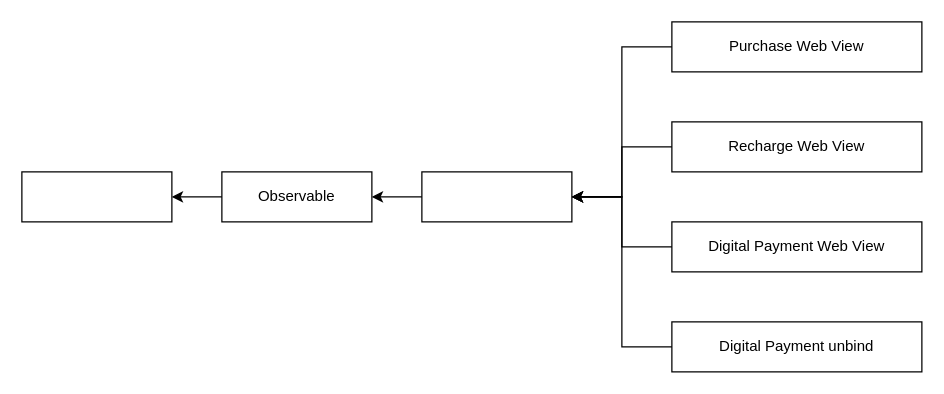
Image size: 944x394. Some labels were removed from this diagram. Here are the shapes that lost their labels. From the top down, the centre of each, then its label:
[96,196]: Cards View
[496,196]: Me
